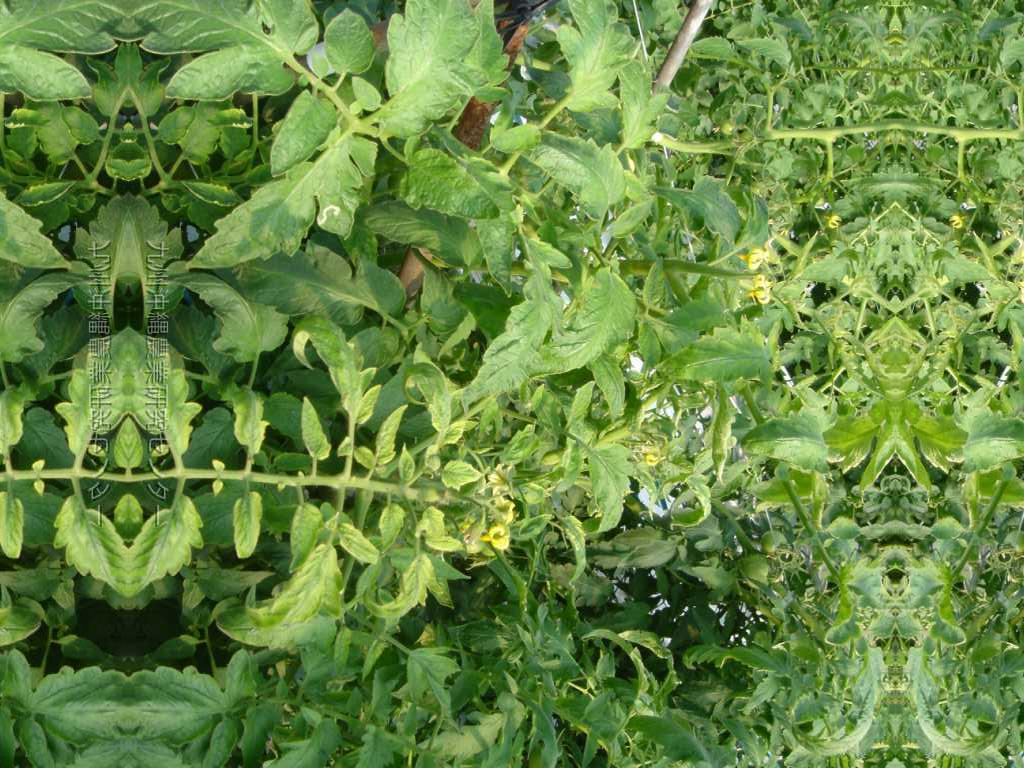Tomato leaf yellow virus: (180, 134, 370, 281), (128, 0, 336, 98), (371, 0, 492, 151), (452, 257, 556, 427), (537, 262, 635, 397), (231, 541, 338, 652), (644, 318, 777, 399), (291, 316, 387, 420), (128, 501, 216, 611), (558, 0, 633, 125), (128, 332, 198, 452), (615, 18, 666, 172), (360, 557, 444, 630), (582, 438, 638, 540), (273, 491, 331, 578), (218, 381, 274, 464), (288, 394, 337, 469), (228, 485, 263, 568), (434, 456, 485, 504)
